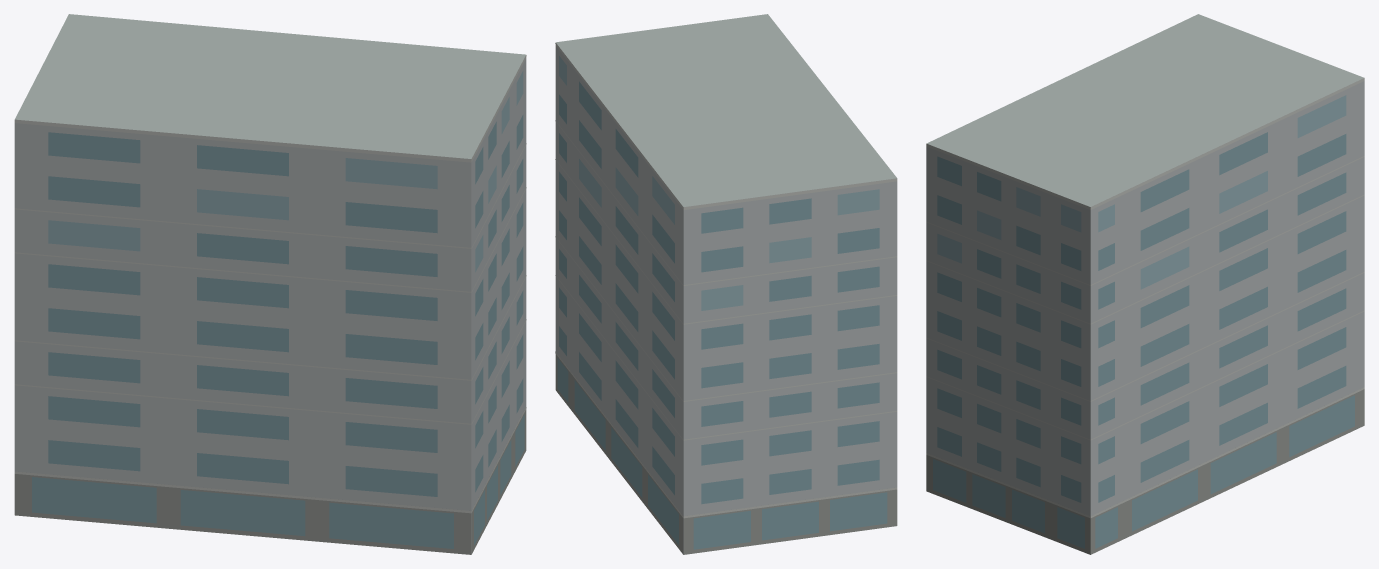
The model's file is survey-upis-32622579.glb.
3 views of the same model, side by side, from view 1: azimuth 30°, elevation 25°; view 2: azimuth 150°, elevation 25°; view 3: azimuth 270°, elevation 25° (orthographic). The views are drawn at different scales.
Parts seen in each view (by area): view 1: survey-upis-32622579.tmp; view 2: survey-upis-32622579.tmp; view 3: survey-upis-32622579.tmp.
Part boxes in pixels (x1=…): survey-upis-32622579.tmp: x1=14, y1=14, x2=526, y2=554; survey-upis-32622579.tmp: x1=555, y1=14, x2=897, y2=554; survey-upis-32622579.tmp: x1=926, y1=14, x2=1364, y2=554.
Bounding box in the file's own units: 32.71 × 27.45 × 31.36.
